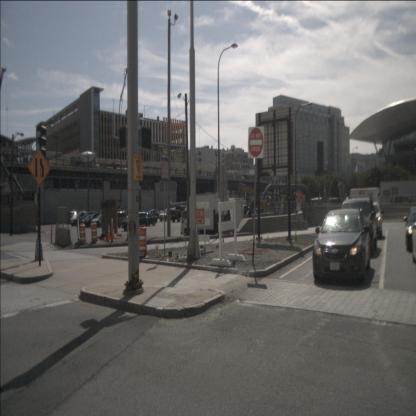barrier: (55, 227, 73, 248), (137, 224, 148, 258), (78, 222, 86, 247), (90, 221, 98, 244)
cone: (110, 216, 114, 242), (107, 222, 111, 243), (50, 221, 53, 245), (55, 223, 58, 245)
